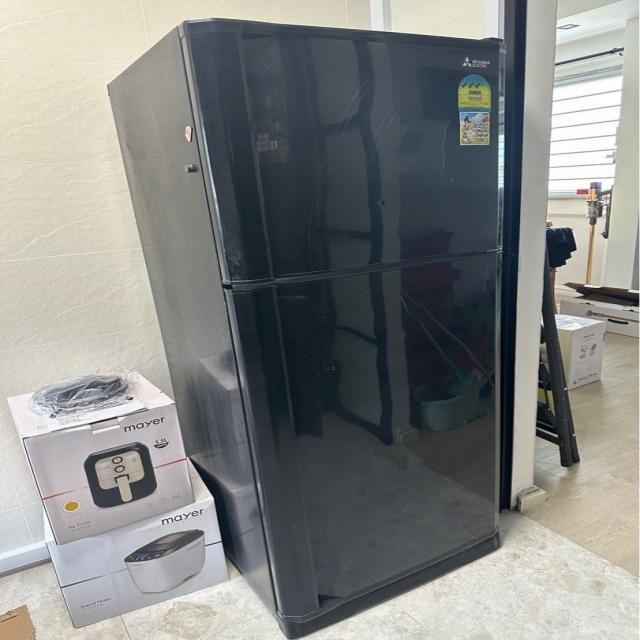refrigerator: (181, 16, 508, 635)
